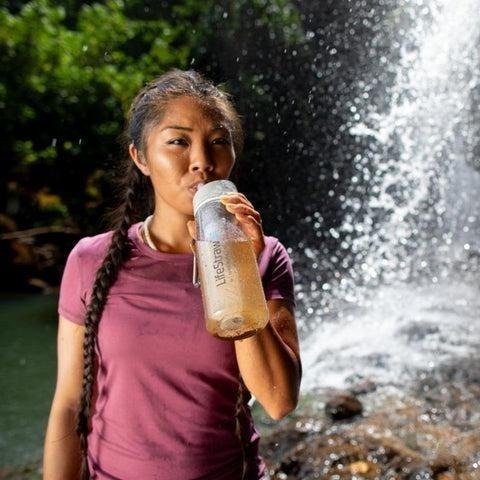gym bottle: (192, 180, 270, 340)
